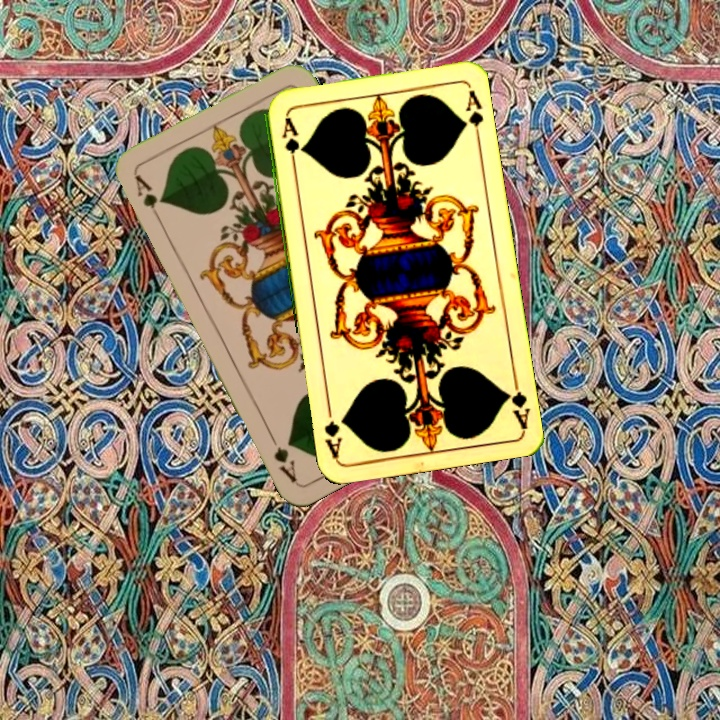GA: (131, 170, 165, 226), (501, 371, 532, 430), (278, 113, 302, 172)
